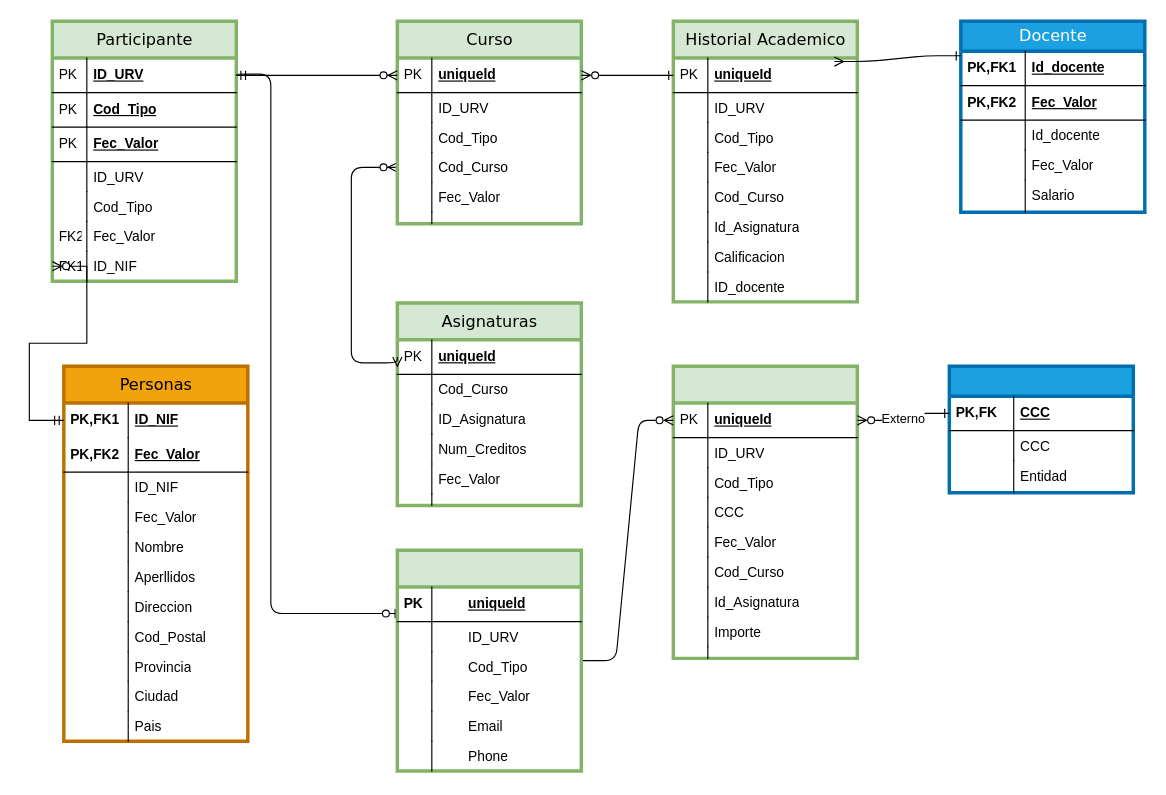
Image size: 1166x795. Some labels were removed from this diagram. Here are the shapes that lost their labels. From the top down, the box of each, then its label:
(947, 364, 1134, 494): T C Finanzas
(671, 364, 858, 660): Facturación
(395, 548, 582, 772): Contacto
